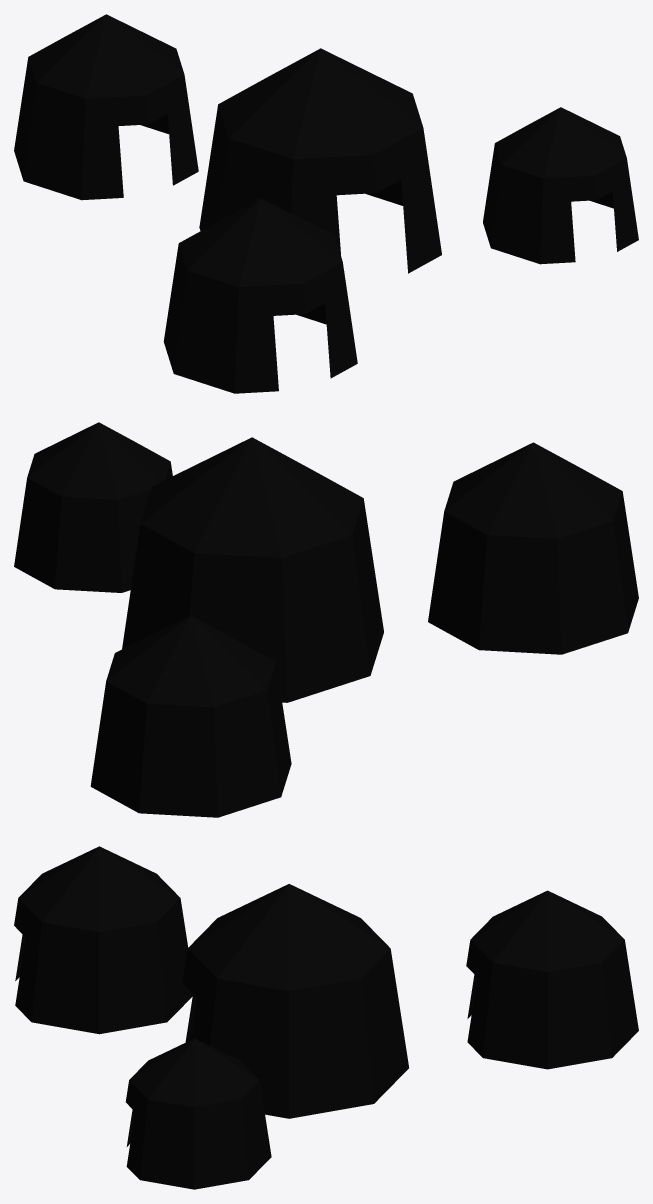
File: Camp01.obj
3 renders of one model, top to bottom at view 1: azimuth 30°, elevation 25°; view 2: azimuth 150°, elevation 25°; view 3: azimuth 270°, elevation 25°, orthographic. The views are drawn at different scales.
Visible parts, largest first — view 1: Camp01; view 2: Camp01; view 3: Camp01.
Part boxes in pixels (bbox=[...]): Camp01: bbox=[14, 14, 638, 393]; Camp01: bbox=[14, 422, 638, 817]; Camp01: bbox=[14, 846, 638, 1189].
Size of the model in its own units: 3.74 by 1.36 by 4.18.
Materials: 1 (1 with a texture image).
